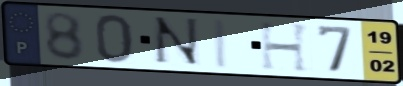0: (93, 12, 136, 65)
7: (315, 24, 358, 75)
8: (42, 10, 86, 62)
H: (257, 21, 313, 74)
I: (211, 17, 231, 70)
N: (151, 15, 204, 68)
